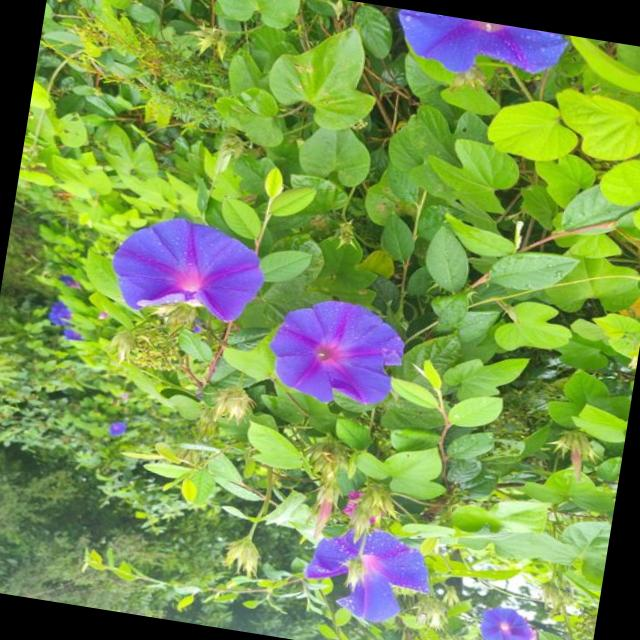ipomoea: (100, 206, 274, 334), (257, 288, 413, 416), (294, 514, 442, 634), (387, 10, 570, 92), (470, 600, 542, 640)
